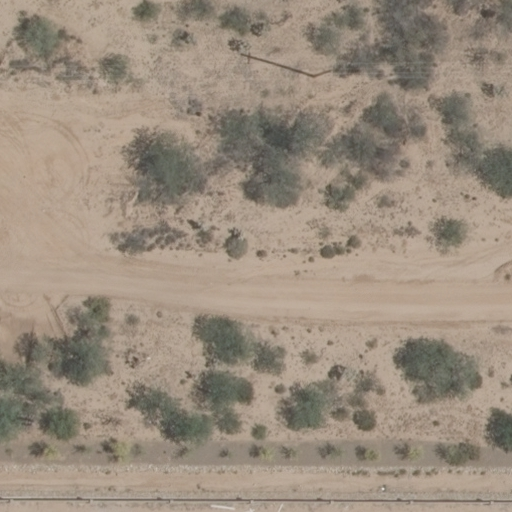DT: (310, 63, 341, 80)
